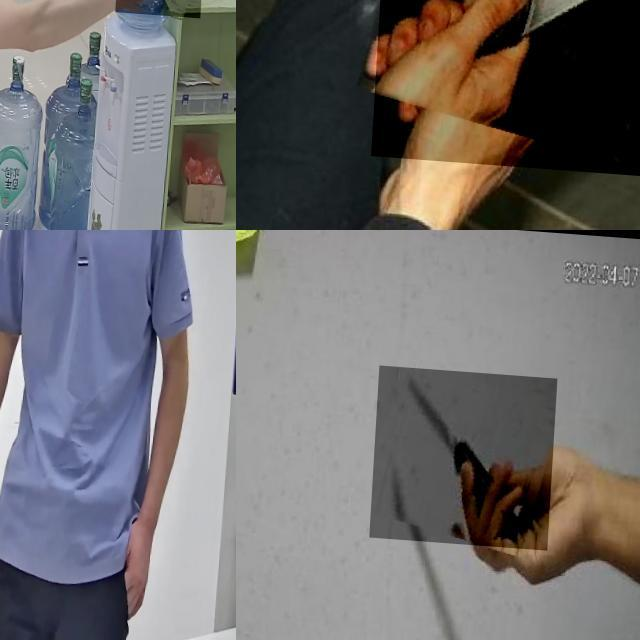-: (377, 0, 640, 230), (373, 362, 559, 544)
gun-knife-thesis - v11 Yolov5 augmented: (119, 0, 209, 60), (0, 524, 35, 640)
